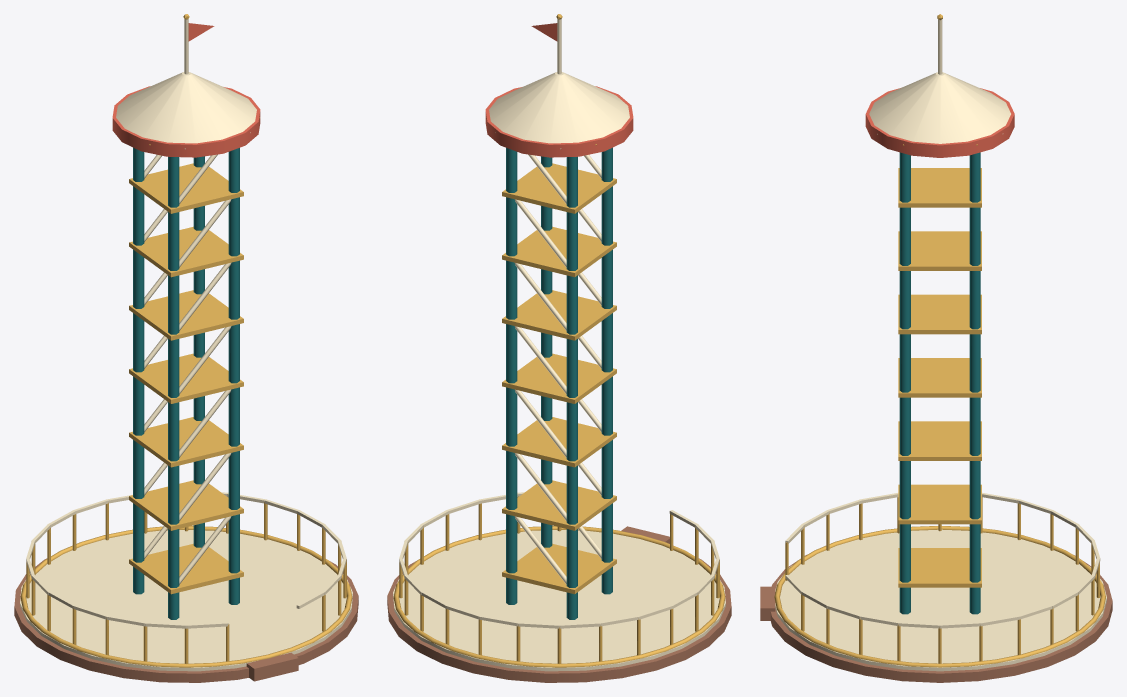
Rendered from ride_dropzone.glb.
3 views of the same model, side by side, from view 1: azimuth 30°, elevation 25°; view 2: azimuth 150°, elevation 25°; view 3: azimuth 270°, elevation 25° (orthographic).
Visible parts, largest first — view 1: ride_dropzone; view 2: ride_dropzone; view 3: ride_dropzone.
Boxes of the visible parts, left/top/right/bottom form: ride_dropzone: left=14, top=14, right=358, bottom=682; ride_dropzone: left=387, top=14, right=731, bottom=682; ride_dropzone: left=760, top=14, right=1112, bottom=682.
Size of the model in its own units: 7.4 by 14.1 by 7.56.
